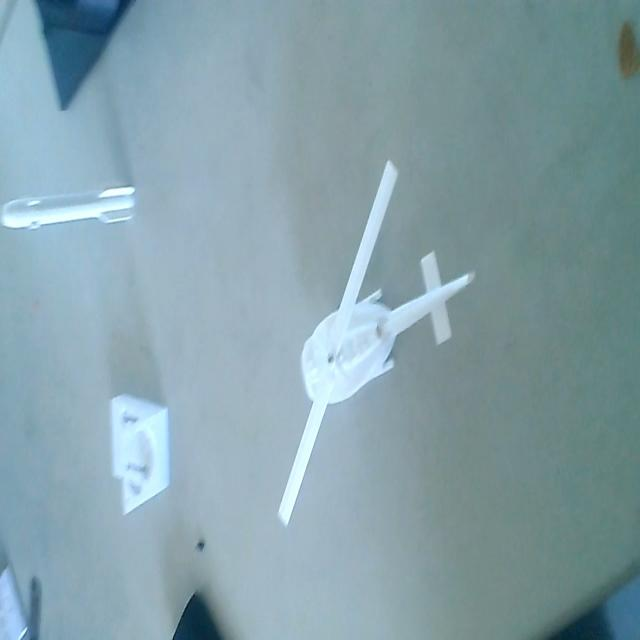Helicopter: (272, 155, 474, 545)
Rocket: (1, 179, 138, 231)
